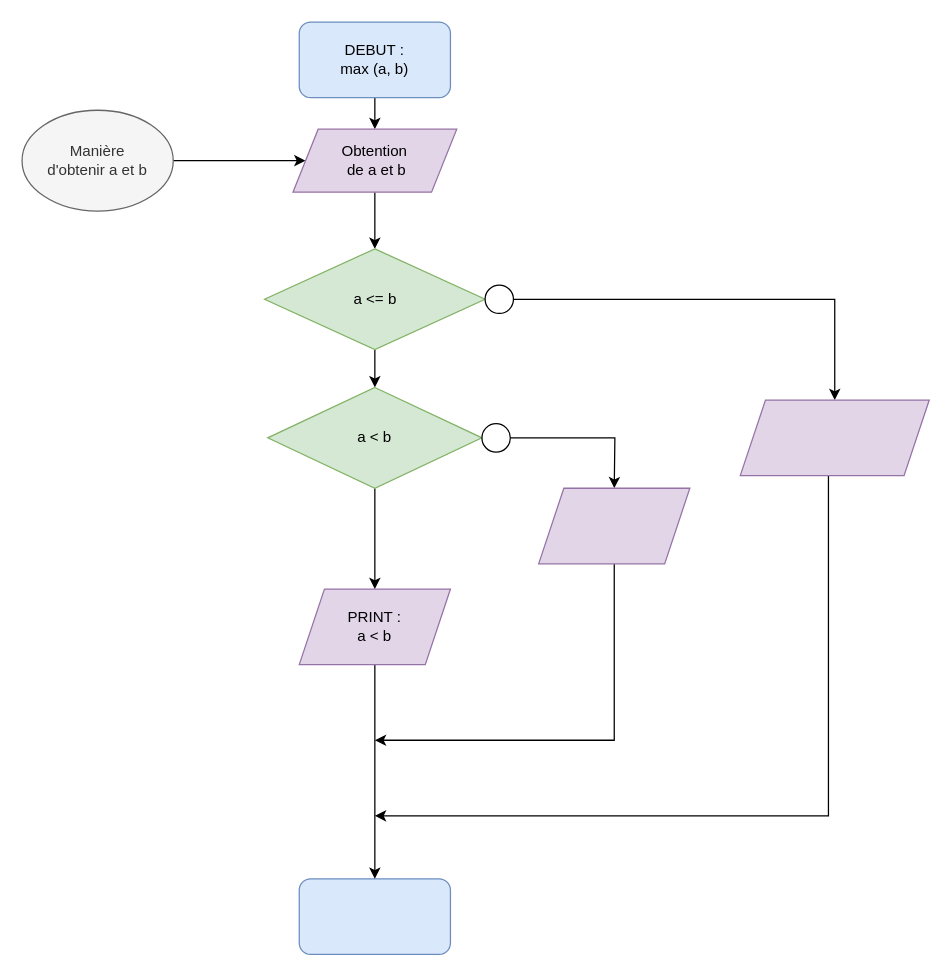
This 951x977 diagram has some shape labels left out. The shapes that lost their labels are listed below. From the top down, each one's centre as x and y in pixels, then its label:
[834,437]: PRINT : a > b
[613,525]: PRINT: a = b
[374,916]: FIN
